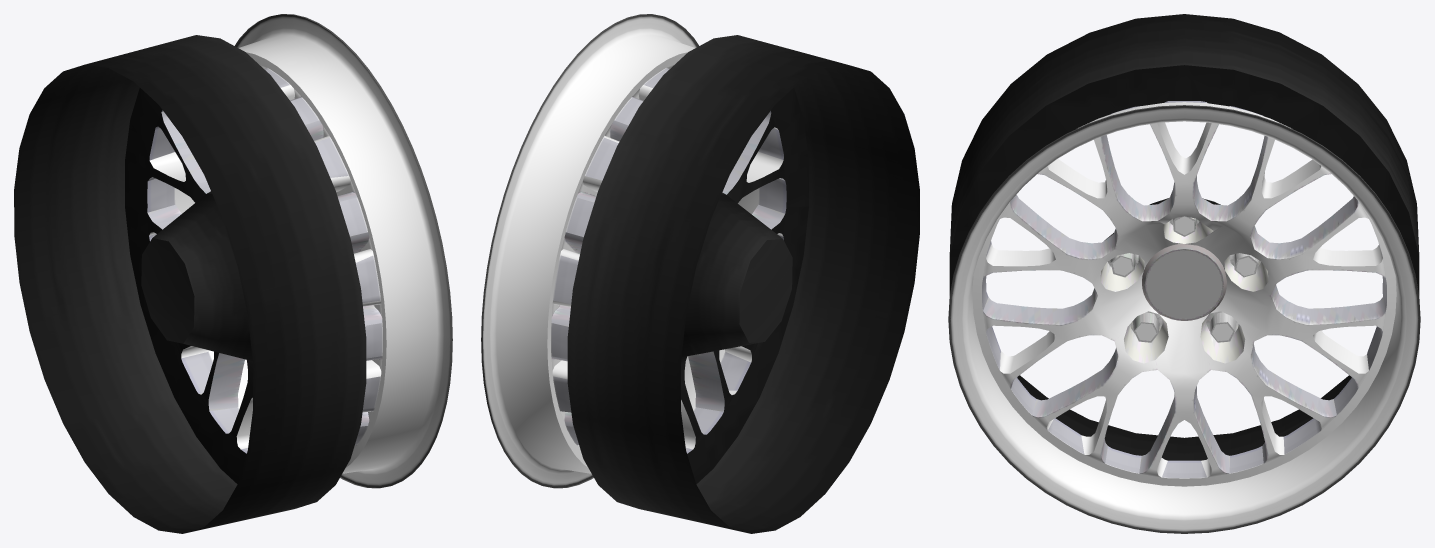
Rendered from wheel48.fbx.
3 renders of one model, left to right at view 1: azimuth 30°, elevation 25°; view 2: azimuth 150°, elevation 25°; view 3: azimuth 270°, elevation 25°, orthographic. The views are drawn at different scales.
Visible parts, largest first — view 1: fik_fm10_wheel_wheel_inner_rim_, wheel_rim, fik_fm10_wheel_wheel_rim_; view 2: fik_fm10_wheel_wheel_inner_rim_, wheel_rim, fik_fm10_wheel_wheel_rim_; view 3: fik_fm10_wheel_wheel_rim_, fik_fm10_wheel_wheel_inner_rim_, wheel_rim.
Boxes of the visible parts, x1=… form: fik_fm10_wheel_wheel_inner_rim_: x1=14, y1=35, x2=366, y2=533; wheel_rim: x1=175, y1=14, x2=452, y2=488; fik_fm10_wheel_wheel_rim_: x1=147, y1=14, x2=451, y2=487; fik_fm10_wheel_wheel_inner_rim_: x1=567, y1=35, x2=919, y2=533; wheel_rim: x1=481, y1=14, x2=758, y2=488; fik_fm10_wheel_wheel_rim_: x1=484, y1=17, x2=786, y2=487; fik_fm10_wheel_wheel_rim_: x1=948, y1=101, x2=1420, y2=533; fik_fm10_wheel_wheel_inner_rim_: x1=949, y1=14, x2=1419, y2=460; wheel_rim: x1=948, y1=102, x2=1420, y2=533.
Size of the model in its own units: 0.2261 by 0.48 by 0.48.
1 material, 1 textured.
